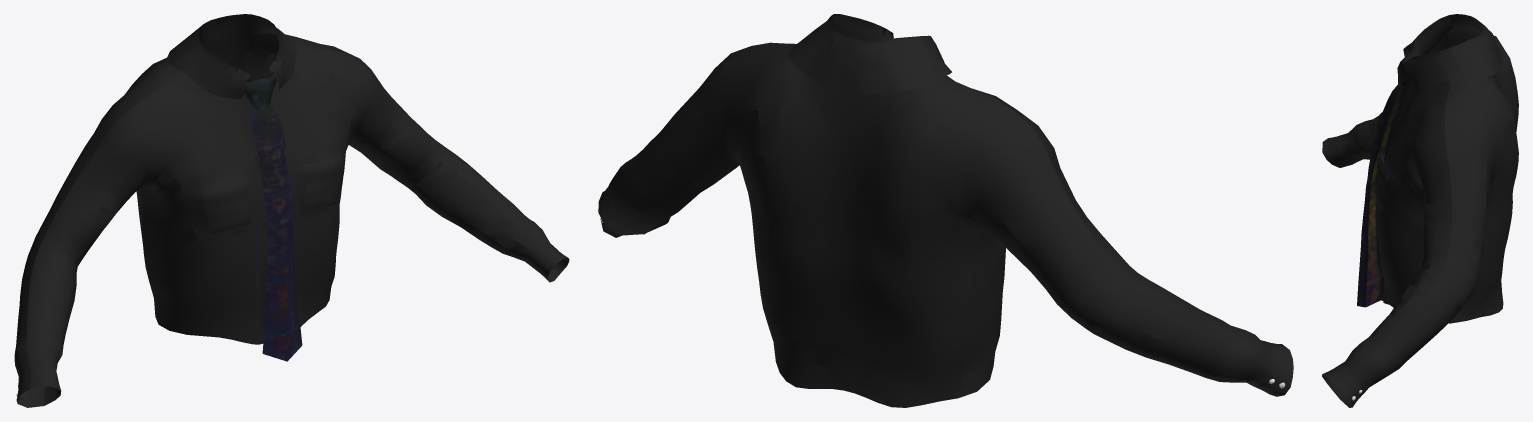
File: elvs-male-shirt-tie-tucked1.glb
The picture shows the model from 3 angles, left to right: view 1: azimuth 30°, elevation 25°; view 2: azimuth 150°, elevation 25°; view 3: azimuth 270°, elevation 25°; orthographic projection. The views are drawn at different scales.
Parts seen in each view (by area): view 1: male shirt tie tucked; view 2: male shirt tie tucked; view 3: male shirt tie tucked.
Boxes of the visible parts, box(x1,y1,x2,y2) form: male shirt tie tucked: box(14, 14, 569, 407); male shirt tie tucked: box(598, 14, 1293, 407); male shirt tie tucked: box(1322, 14, 1518, 407).
Size of the model in its own units: 105 by 53.82 by 34.51.
Materials: 1 (1 with a texture image).
